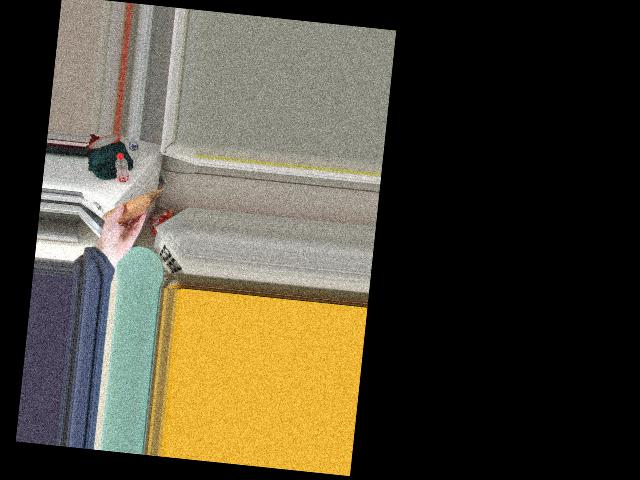sweet_potato: (112, 191, 147, 225)
